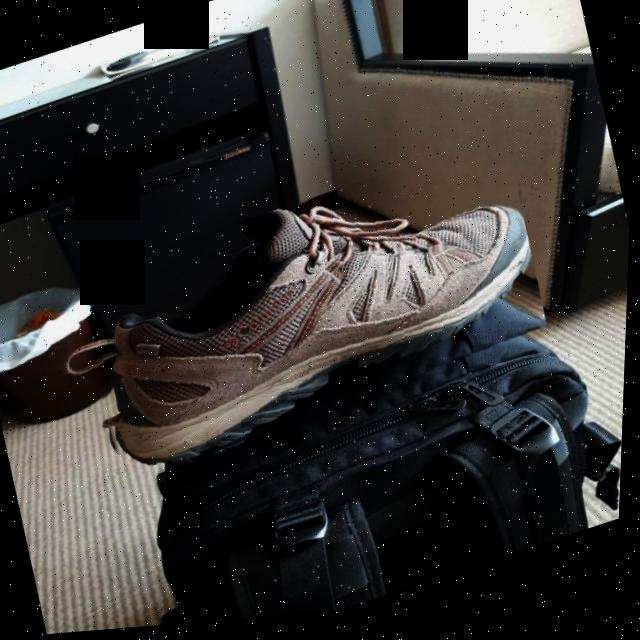shoe: (66, 139, 561, 495)
